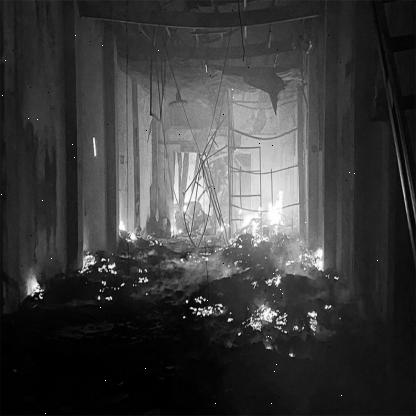fire: (237, 190, 292, 238), (302, 238, 325, 284), (80, 250, 105, 279), (25, 265, 42, 304)
